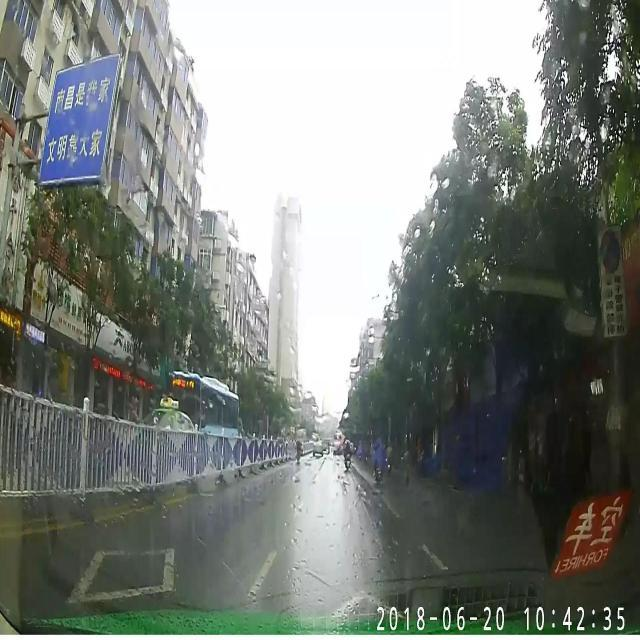car: (122, 402, 200, 474), (312, 433, 322, 458)
